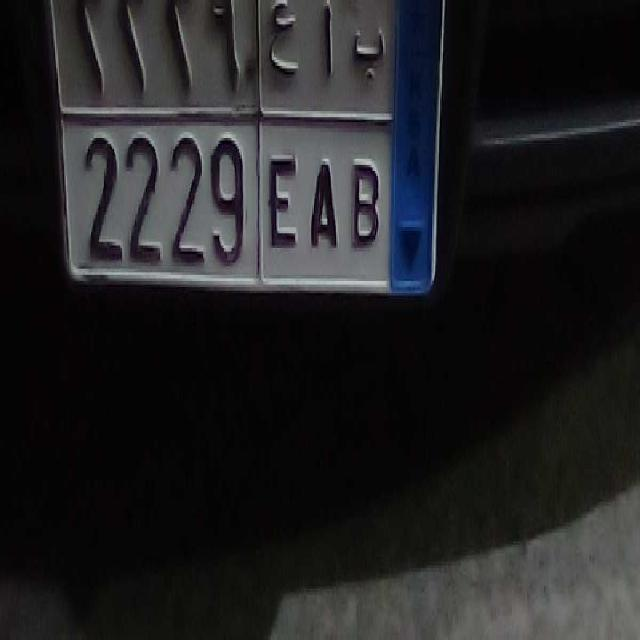license_plate: (61, 116, 390, 314)
